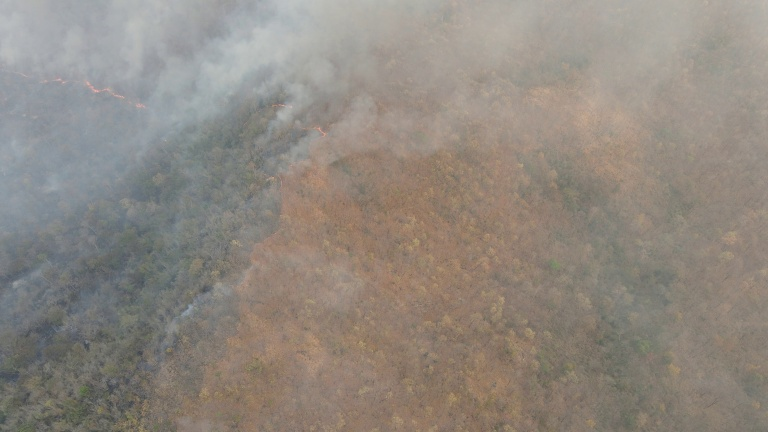fire: (5, 60, 160, 127), (262, 97, 299, 115), (301, 122, 335, 139)
smoke: (3, 1, 355, 223), (160, 298, 203, 356)
